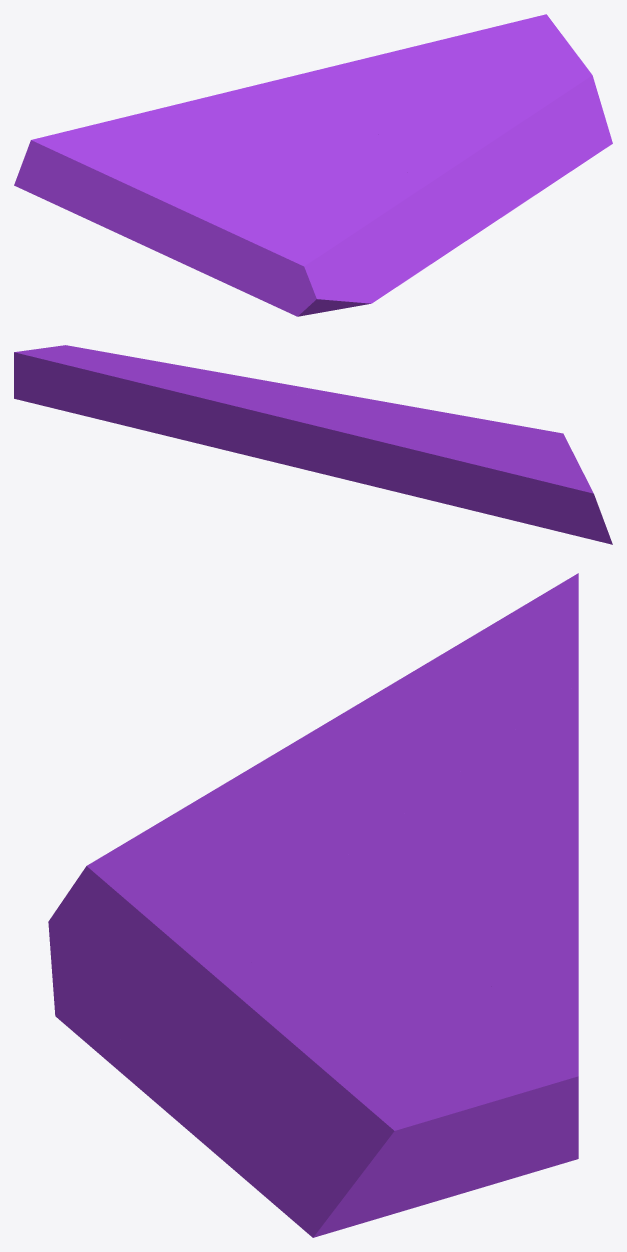
Rendered from Window_166_2_chunks.fbx.
The picture shows the model from 3 angles, top to bottom: view 1: azimuth 30°, elevation 25°; view 2: azimuth 150°, elevation 25°; view 3: azimuth 270°, elevation 25°; orthographic projection. The views are drawn at different scales.
Visible parts, largest first — view 1: Window_166_2_7, Window_166_2_8, Window_166_2_9, Window_166_2_10, Window_166_2_13, Window_166_2_6, Window_166_2_14, Window_166_2_1, Window_166_2_4, Window_166_2_2, Window_166_2_0, Window_166_2_3 (+3 smaller); view 2: Window_166_2_7, Window_166_2_1, Window_166_2_8, Window_166_2_2, Window_166_2_9, Window_166_2_5, Window_166_2_4, Window_166_2_11, Window_166_2_10, Window_166_2_0, Window_166_2_12, Window_166_2_3 (+4 smaller); view 3: Window_166_2_7, Window_166_2_8, Window_166_2_6, Window_166_2_13, Window_166_2_1, Window_166_2_4, Window_166_2_14, Window_166_2_2, Window_166_2_10, Window_166_2_0, Window_166_2_3, Window_166_2_12 (+3 smaller).
Part boxes in pixels (box(x1,y1,x2,y2)): Window_166_2_7: box(432, 14, 612, 178); Window_166_2_8: box(44, 112, 297, 230); Window_166_2_9: box(14, 137, 248, 293); Window_166_2_10: box(242, 194, 343, 316); Window_166_2_13: box(407, 154, 499, 270); Window_166_2_6: box(398, 119, 559, 217); Window_166_2_14: box(324, 214, 420, 308); Window_166_2_1: box(144, 76, 296, 152); Window_166_2_4: box(395, 42, 477, 150); Window_166_2_2: box(293, 51, 397, 138); Window_166_2_0: box(274, 130, 398, 174); Window_166_2_3: box(278, 83, 360, 149); Window_166_2_7: box(14, 345, 216, 426); Window_166_2_1: box(298, 421, 466, 488); Window_166_2_8: box(425, 429, 578, 504); Window_166_2_2: box(184, 393, 323, 467); Window_166_2_9: box(449, 446, 612, 544); Window_166_2_5: box(128, 389, 255, 457); Window_166_2_4: box(143, 377, 322, 401); Window_166_2_11: box(383, 416, 464, 504); Window_166_2_10: box(434, 419, 569, 446); Window_166_2_0: box(308, 399, 423, 432); Window_166_2_12: box(319, 397, 467, 421); Window_166_2_3: box(306, 408, 415, 431); Window_166_2_7: box(257, 964, 578, 1237); Window_166_2_8: box(215, 586, 578, 849); Window_166_2_6: box(193, 945, 353, 1189); Window_166_2_13: box(107, 957, 305, 1134); Window_166_2_1: box(396, 683, 578, 832); Window_166_2_4: box(322, 928, 578, 1021); Window_166_2_14: box(50, 884, 194, 1060); Window_166_2_2: box(354, 828, 578, 943); Window_166_2_10: box(48, 799, 272, 950); Window_166_2_0: box(294, 820, 401, 945); Window_166_2_3: box(397, 823, 558, 904); Window_166_2_12: box(182, 889, 317, 959).
Size of the model in its own units: 1351 by 289 by 582.
